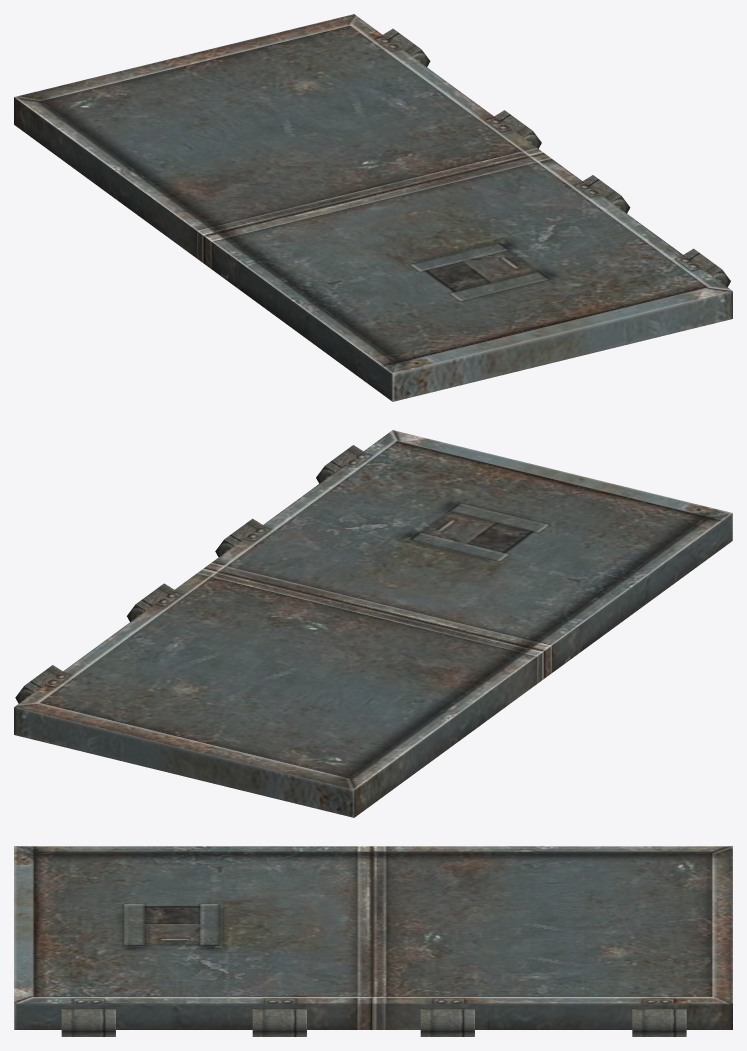
Rendered from prop_door_metal_bunker.glb.
3 renders of one model, top to bottom at view 1: azimuth 30°, elevation 25°; view 2: azimuth 150°, elevation 25°; view 3: azimuth 270°, elevation 25°, orthographic. The views are drawn at different scales.
Bounding box in the file's own units: 51.19 × 5.55 × 91.96.
1 material, 1 textured.
